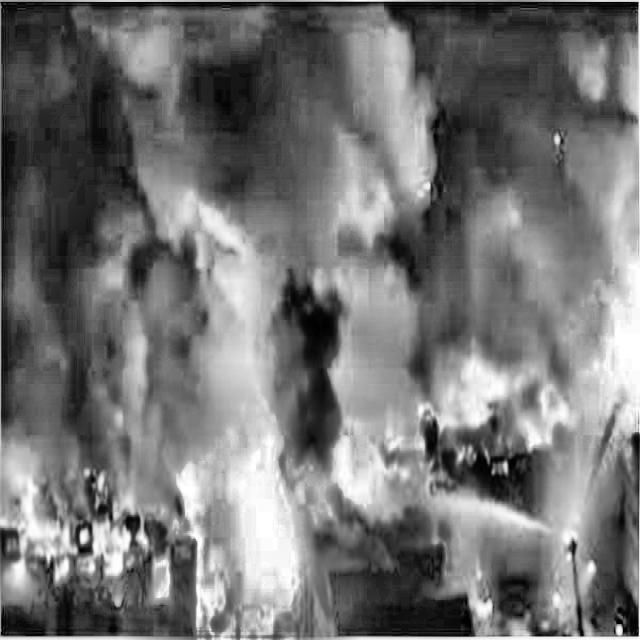fire: (0, 225, 639, 640), (446, 103, 640, 450)
